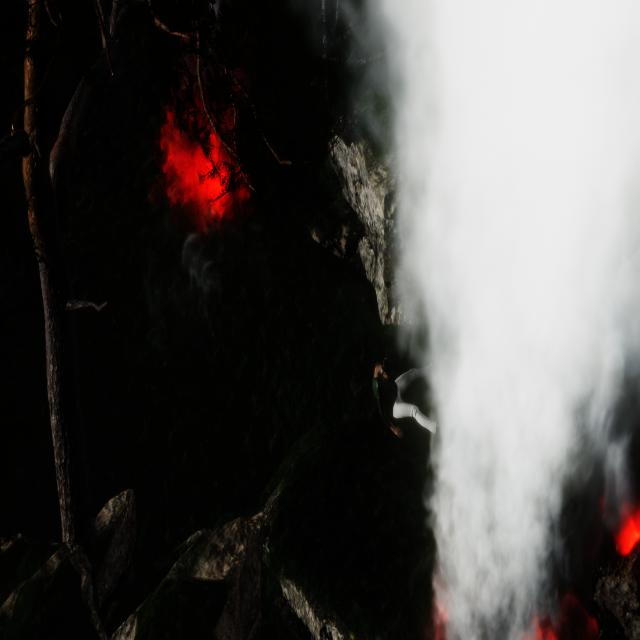Human: (369, 351, 447, 447)
